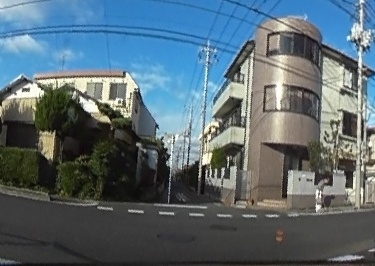person: (314, 174, 329, 210)
